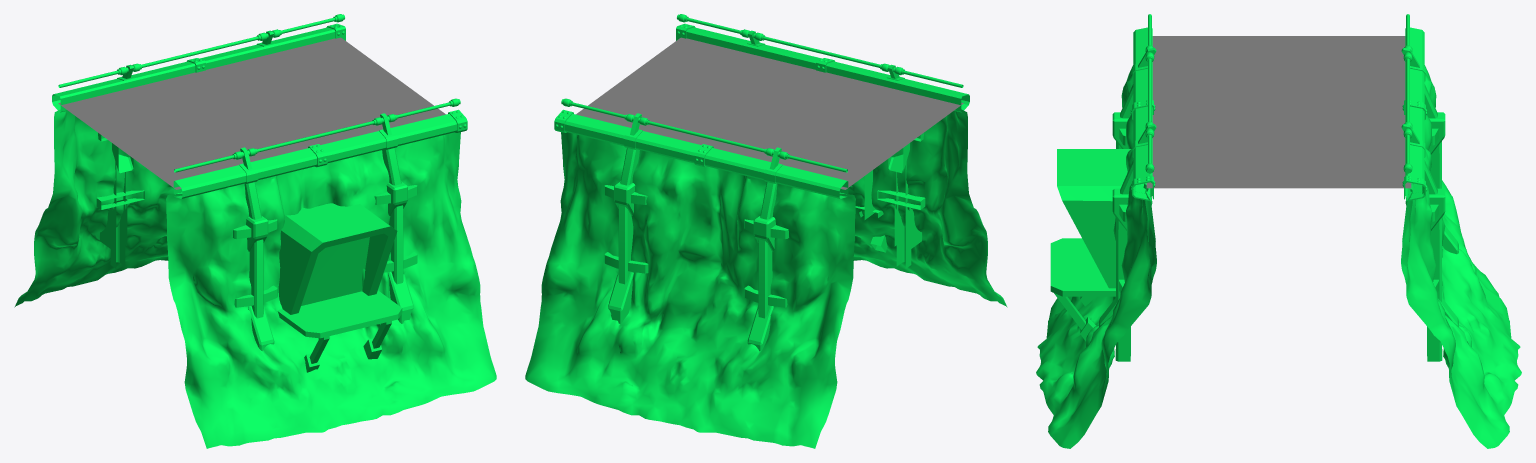
File: Track_01_1.fbx
The picture shows the model from 3 angles, left to right: view 1: azimuth 30°, elevation 25°; view 2: azimuth 150°, elevation 25°; view 3: azimuth 270°, elevation 25°; orthographic projection. The views are drawn at different scales.
Visible parts, largest first — view 1: Side_Rock_001, Road_001; view 2: Side_Rock_001, Road_001; view 3: Side_Rock_001, Road_001.
Boxes of the visible parts, box(x1,y1,x2,y2) form: Side_Rock_001: box(14, 14, 496, 448); Road_001: box(58, 37, 445, 189); Side_Rock_001: box(525, 14, 1007, 448); Road_001: box(576, 37, 963, 189); Side_Rock_001: box(1036, 14, 1521, 448); Road_001: box(1146, 36, 1411, 188).
Size of what is drawn, in the model's own units: 3159 by 4039 by 2600.
